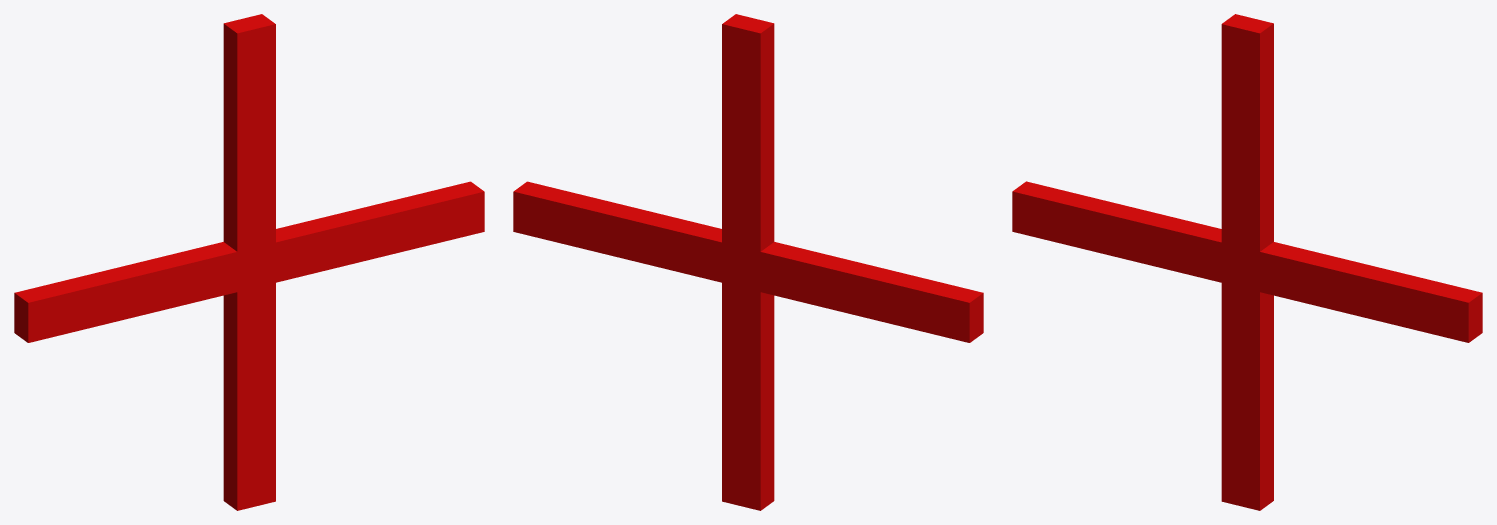
The picture shows the model from 3 angles, left to right: view 1: azimuth 30°, elevation 25°; view 2: azimuth 150°, elevation 25°; view 3: azimuth 330°, elevation 25°; orthographic projection.
Visible parts, largest first — view 1: typeMesh1; view 2: typeMesh1; view 3: typeMesh1.
Part boxes in pixels (box(x1,y1,x2,y2)): typeMesh1: box(14, 14, 484, 510); typeMesh1: box(513, 14, 983, 510); typeMesh1: box(1012, 14, 1482, 510).
Bounding box in the file's own units: 0.4782 × 0.4782 × 0.025.
